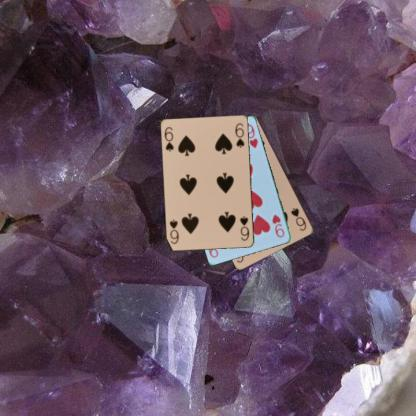6s: (288, 206, 308, 232), (162, 125, 175, 153), (238, 214, 250, 242)
9h: (270, 211, 286, 238)
